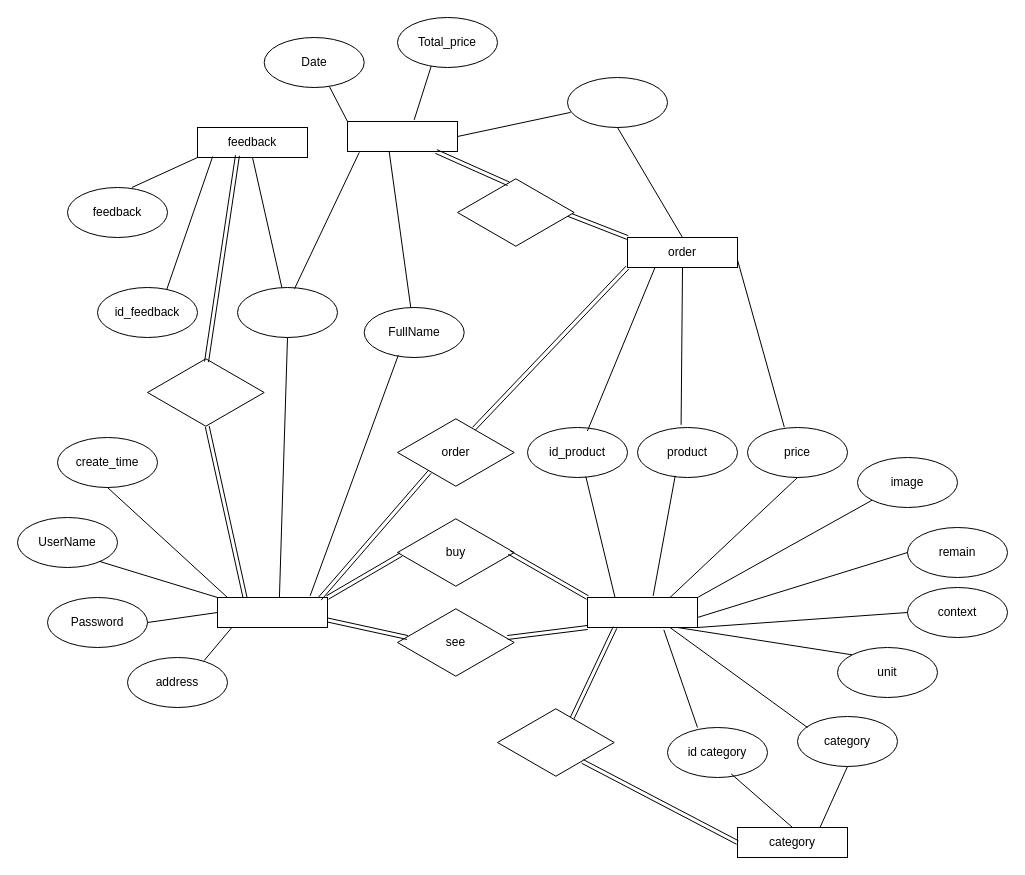
Image size: 1025x875. Some labels were removed from this diagram. The shapes that lost their labels are listed below. From the top down, each one's centre as x and y in pixels, then its label:
At point (617, 102): "id_bill".
At point (402, 136): "order_details".
At point (515, 212): "have".
At point (287, 312): "user_id".
At point (205, 392): "write".
At point (272, 612): "users".
At point (642, 612): "products".
At point (555, 742): "classify".
